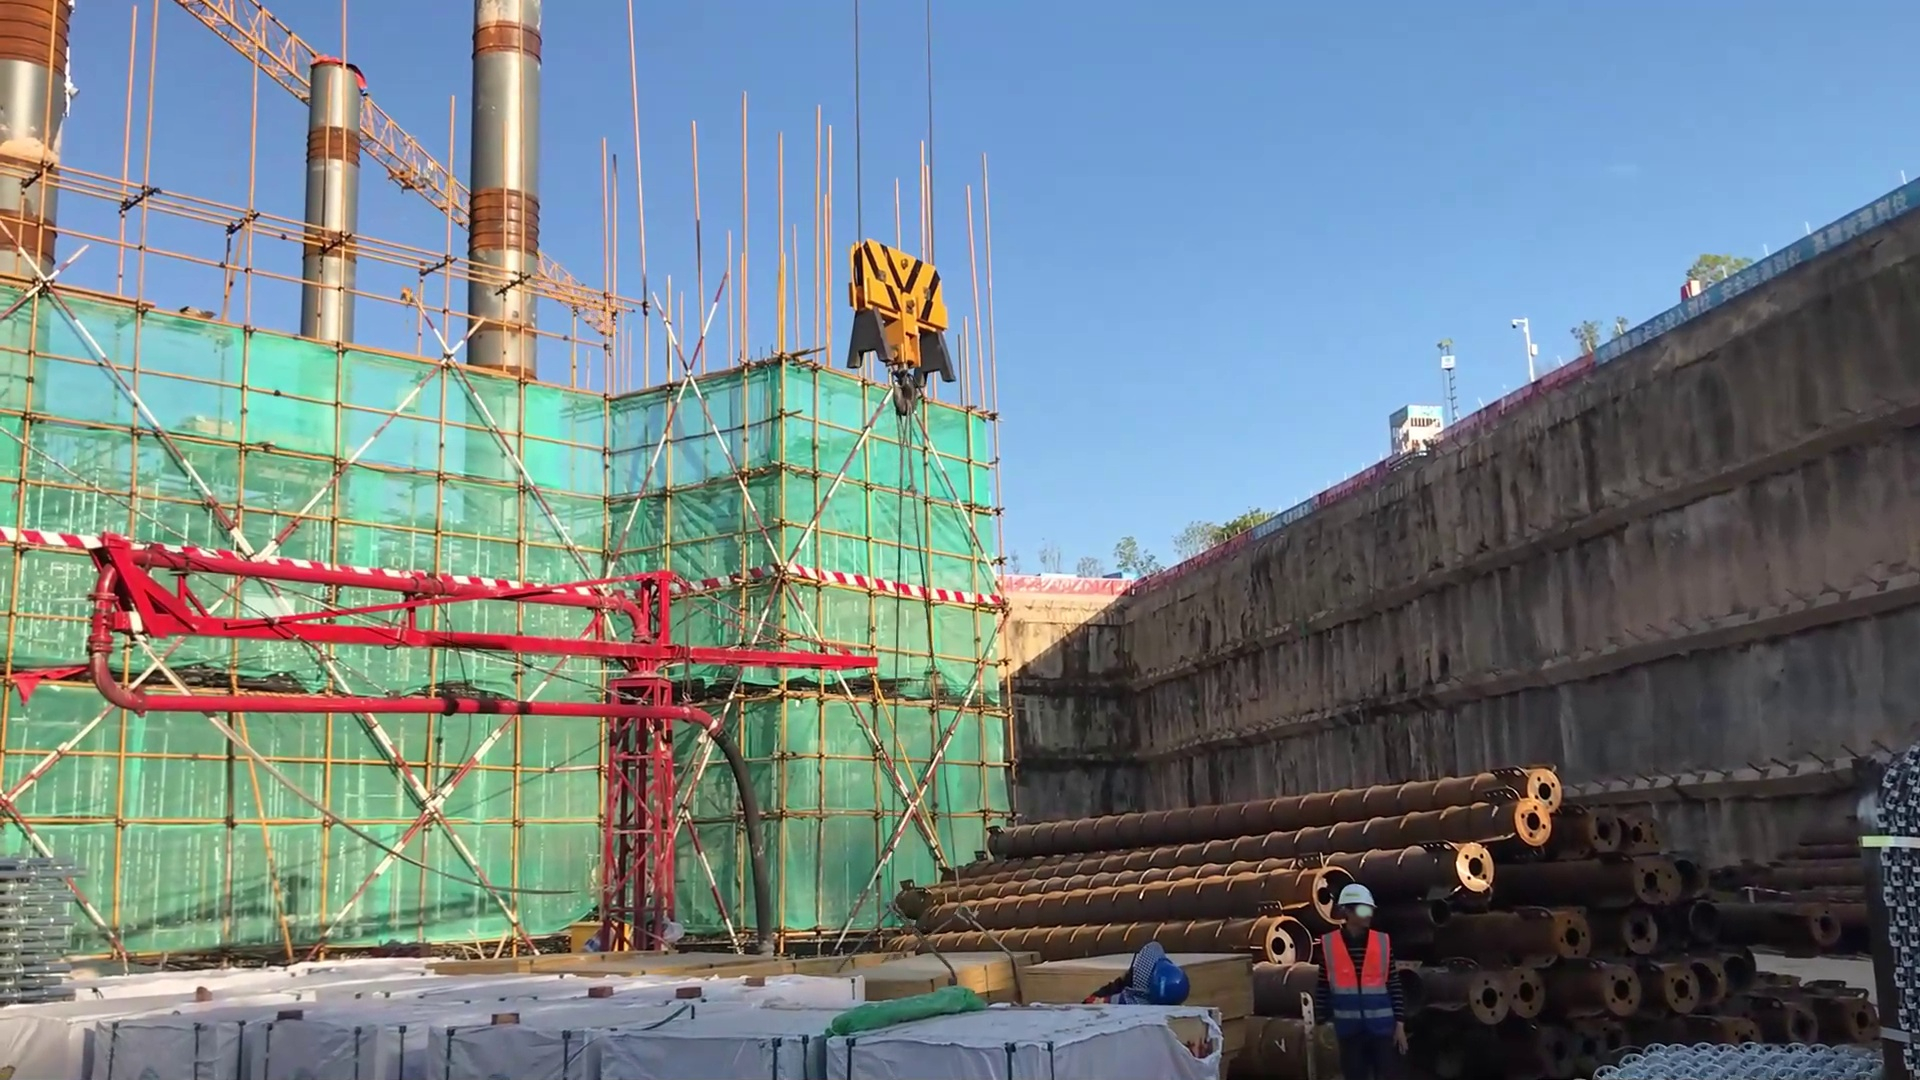board: (1020, 947, 1264, 1022), (846, 946, 1043, 1012)
ebox: (554, 920, 636, 960)
helmet: (1138, 943, 1194, 1013), (1327, 883, 1387, 945)
hook: (848, 234, 968, 445)
person: (1288, 875, 1408, 1078)
scaffold: (1870, 745, 1920, 1067), (1, 834, 86, 1008)
slogan: (1593, 171, 1920, 382), (1250, 496, 1323, 545)
vest: (1320, 930, 1397, 1037)
